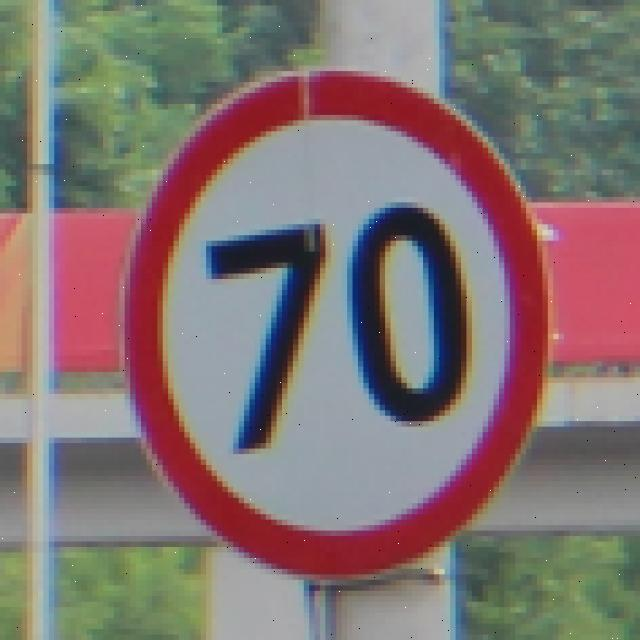speed limit 70: (124, 68, 551, 582)
